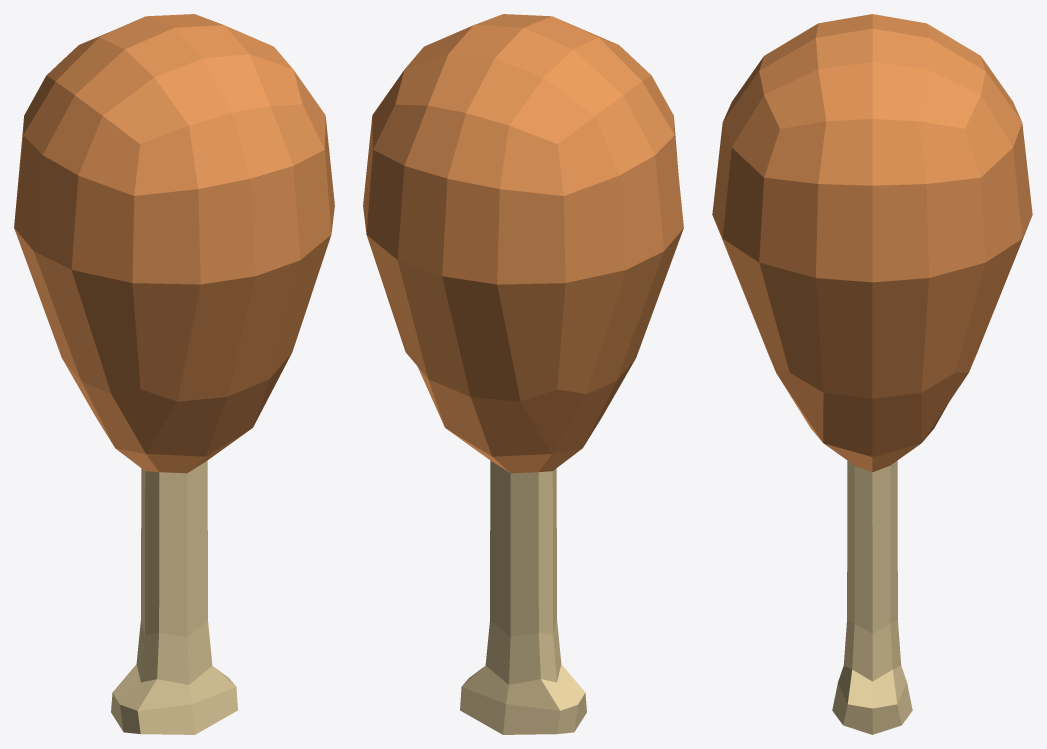
File: SM_Drumstickreal.fbx
3 renders of one model, left to right at view 1: azimuth 30°, elevation 25°; view 2: azimuth 150°, elevation 25°; view 3: azimuth 270°, elevation 25°, orthographic.
Visible parts, largest first — view 1: Chicken_Drumstick_01; view 2: Chicken_Drumstick_01; view 3: Chicken_Drumstick_01.
Boxes of the visible parts, bbox=[...] form: Chicken_Drumstick_01: bbox=[14, 14, 334, 734]; Chicken_Drumstick_01: bbox=[363, 14, 683, 734]; Chicken_Drumstick_01: bbox=[712, 14, 1032, 734].
Bounding box in the file's own units: 450 × 1072 × 450.
